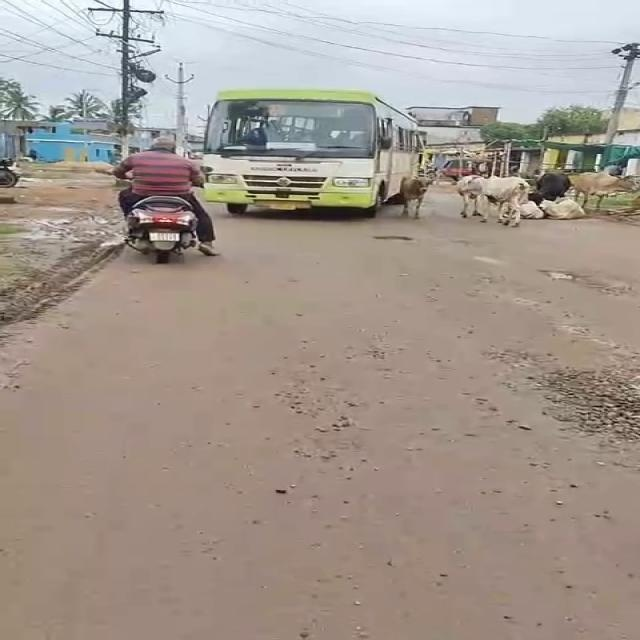pothole: (533, 366, 640, 436), (535, 264, 586, 285), (368, 230, 416, 244), (594, 282, 636, 298), (454, 240, 476, 248)
